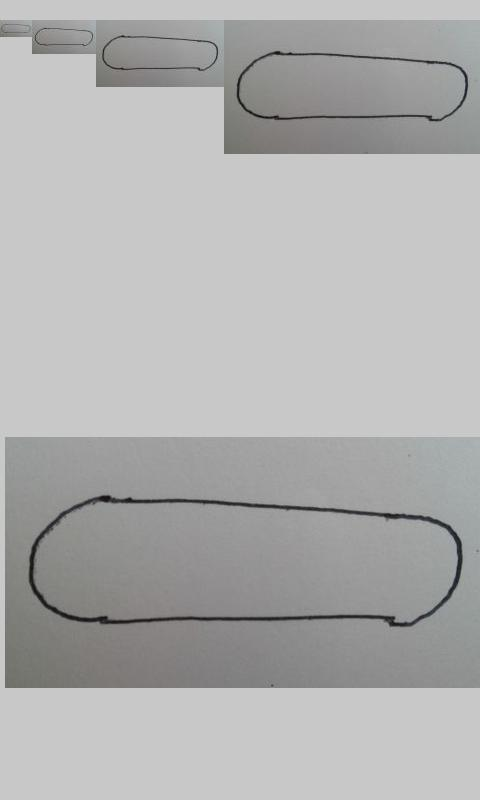chip: (27, 492, 465, 628), (236, 51, 469, 122), (102, 35, 219, 72), (35, 27, 94, 47), (1, 23, 32, 34)
